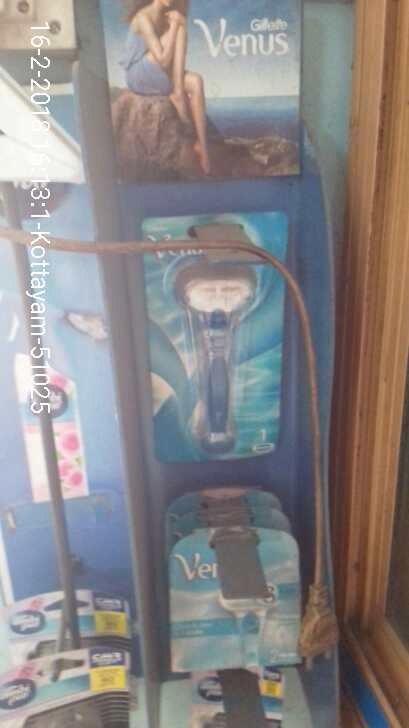venus: (164, 526, 311, 676), (171, 254, 261, 457)
